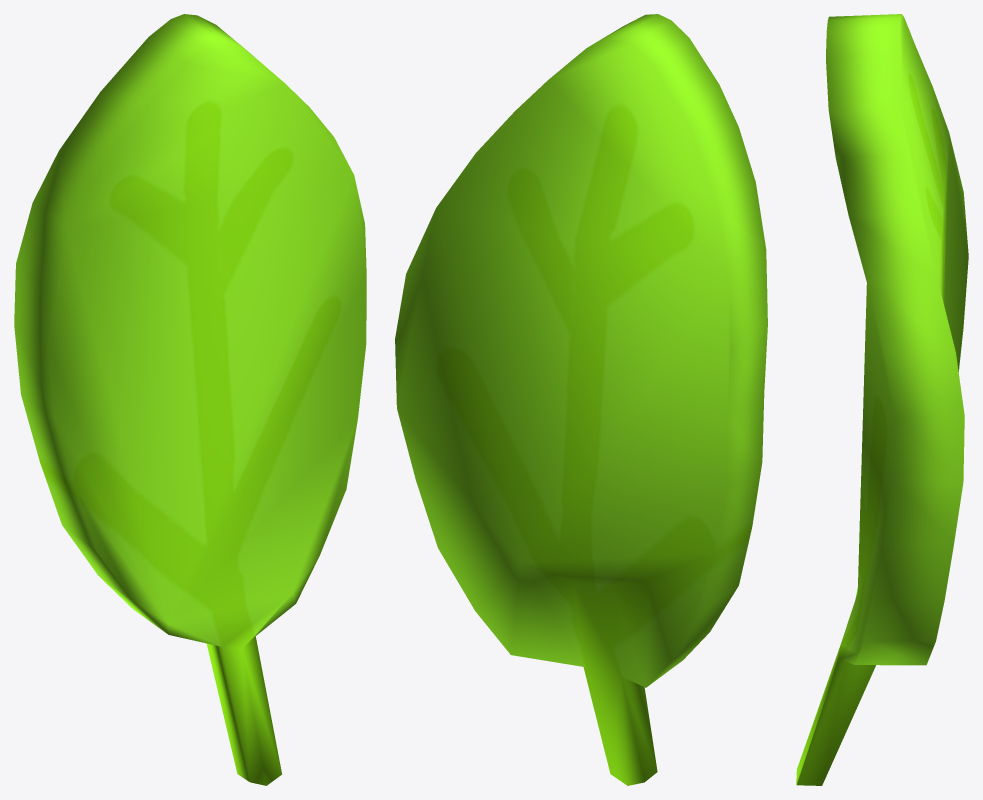
Rendered from green_leaf.glb.
3 views of the same model, side by side, from view 1: azimuth 30°, elevation 25°; view 2: azimuth 150°, elevation 25°; view 3: azimuth 270°, elevation 25° (orthographic). The views are drawn at different scales.
Visible parts, largest first — view 1: Green_Leaf; view 2: Green_Leaf; view 3: Green_Leaf.
Part boxes in pixels (left/top/right/bottom): Green_Leaf: left=14, top=14, right=366, bottom=785; Green_Leaf: left=395, top=14, right=767, bottom=785; Green_Leaf: left=796, top=14, right=968, bottom=785.
Size of the model in its own units: 0.2887 by 0.6458 by 0.1342.
Materials: 1 (1 with a texture image).
